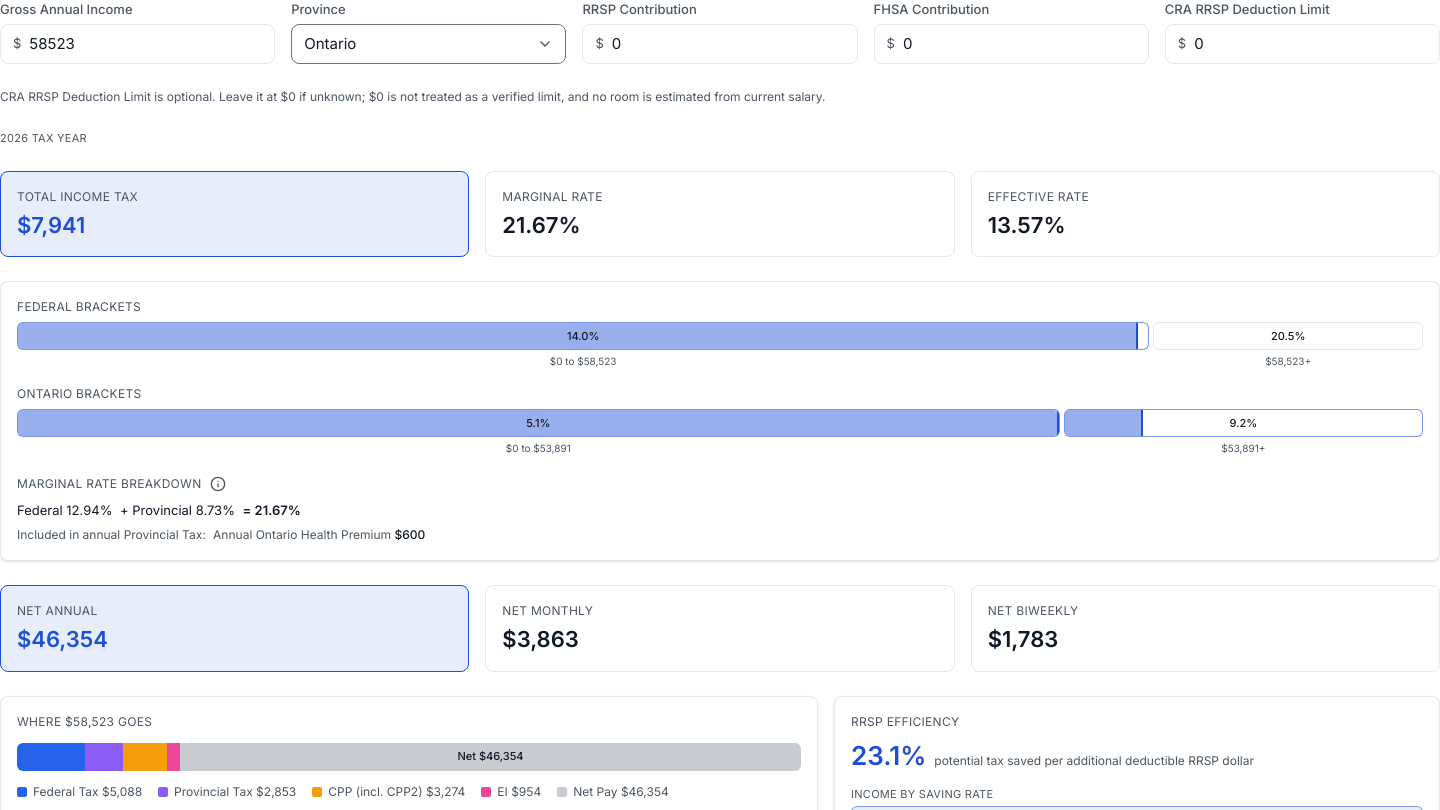
SalaryTaxTool layout › spaces the annual Ontario premium note and keeps the bracket explanation behind help
The width and height of the screenshot is (1440, 810).
Expected: the text "Filled portion = income inside each bracket" is not shown
Click the button named "About brackets and marginal rates".
click(218, 484)  # box [206,472,230,496]
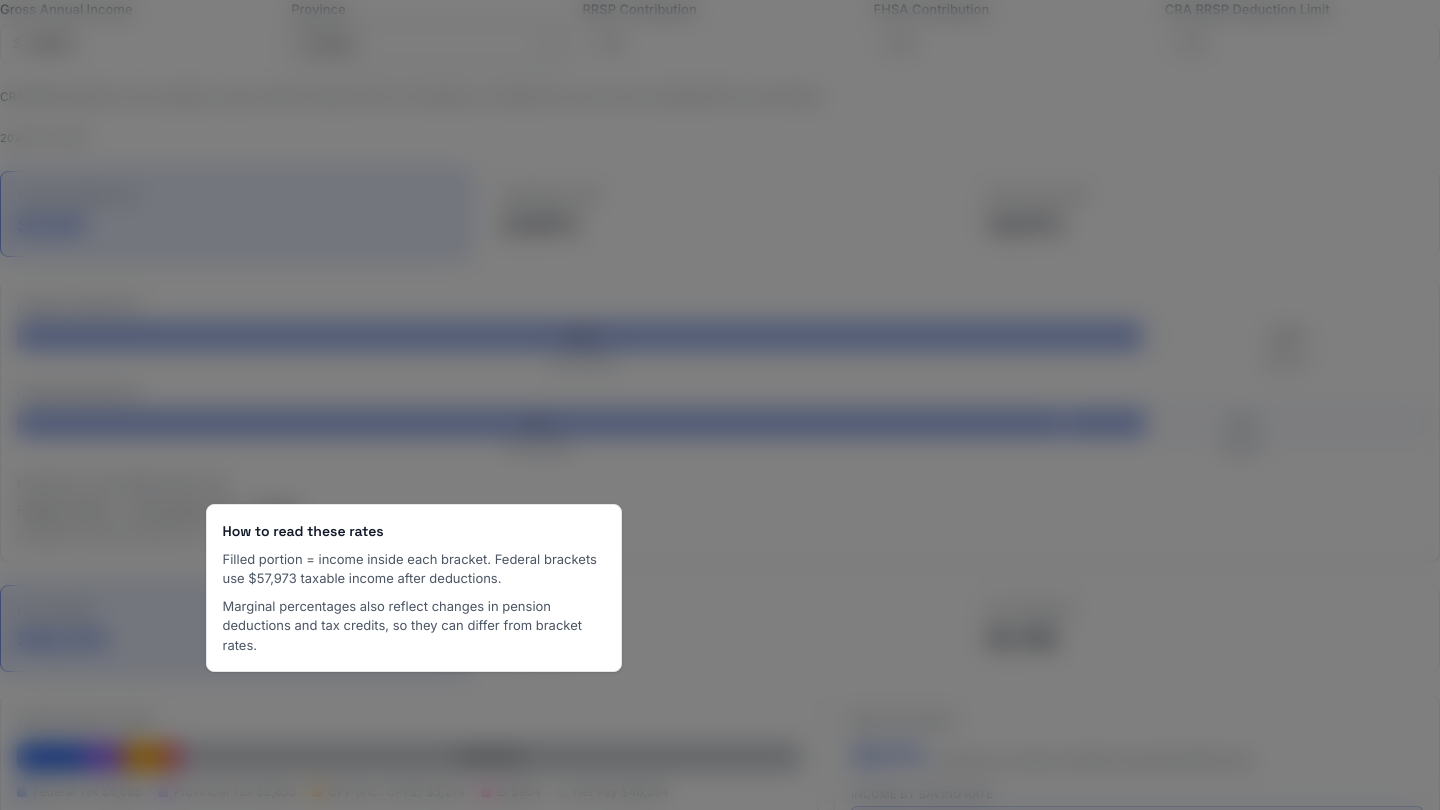
Now the dialog named "Brackets and marginal rates help" shows "Federal brackets use $57,973 taxable income after deductions", box [206,504,622,672]
